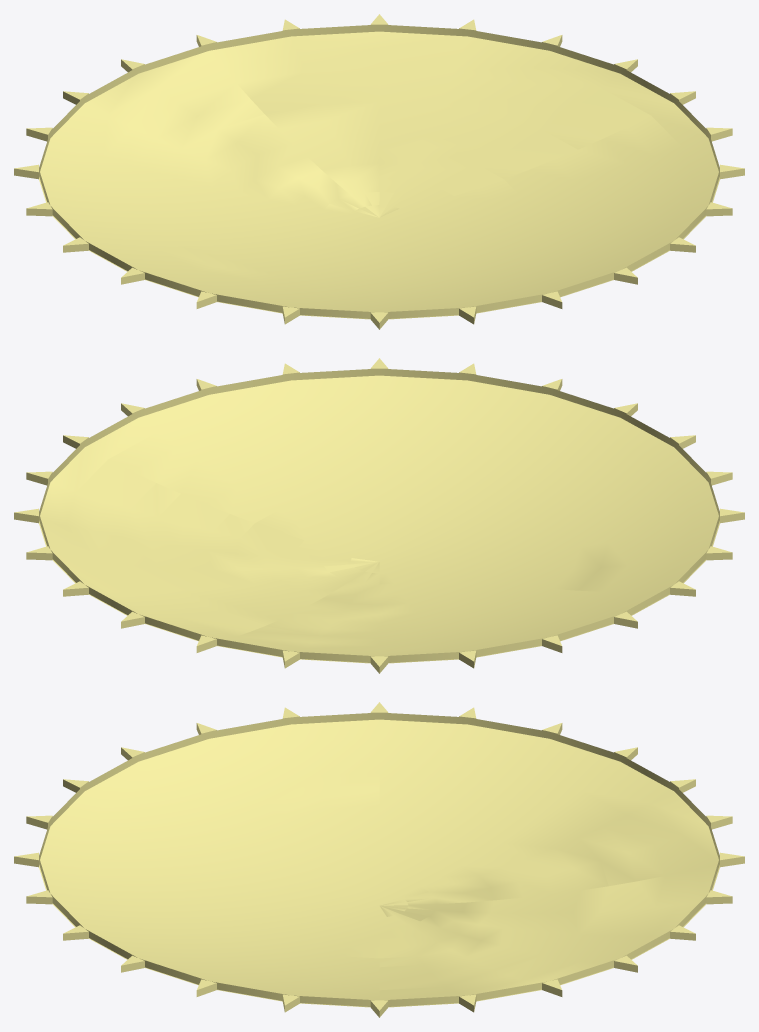
Rendered from Lampplafond.fbx.
The picture shows the model from 3 angles, top to bottom: view 1: azimuth 30°, elevation 25°; view 2: azimuth 150°, elevation 25°; view 3: azimuth 270°, elevation 25°; orthographic projection.
Visible parts, largest first — view 1: Ikea_sun_ceiling_lamp1; view 2: Ikea_sun_ceiling_lamp1; view 3: Ikea_sun_ceiling_lamp1.
Boxes of the visible parts, x1=… form: Ikea_sun_ceiling_lamp1: x1=14, y1=14, x2=744, y2=329; Ikea_sun_ceiling_lamp1: x1=14, y1=358, x2=744, y2=673; Ikea_sun_ceiling_lamp1: x1=14, y1=702, x2=744, y2=1017.
Bounding box in the file's own units: 18.52 × 1.38 × 18.52.
